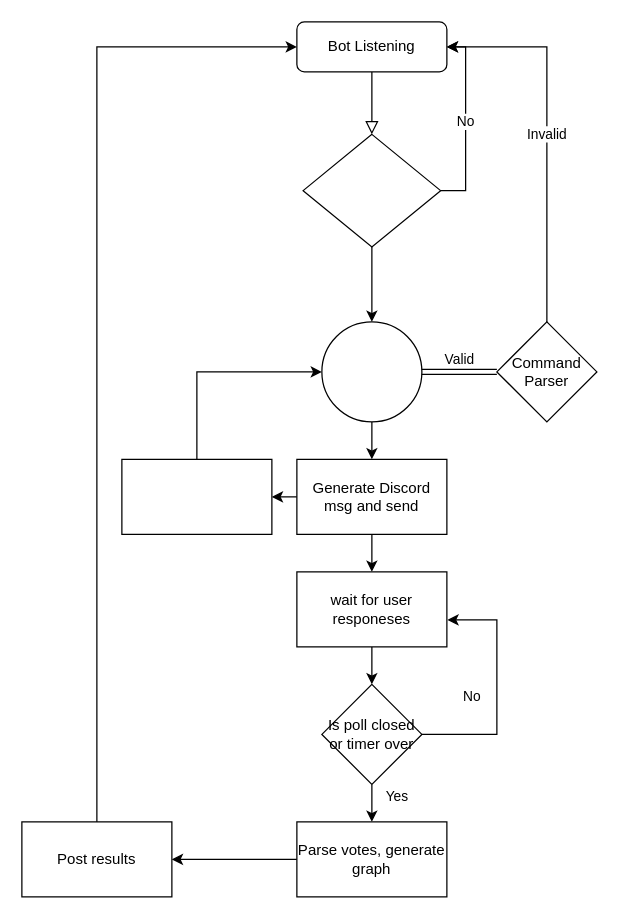
This 619x919 diagram has some shape labels left out. Here are the shapes that lost their labels. From the top down, the centre of each, then its label:
pixel 371 190: !!gvote command found
pixel 371 371: Poll Manager
pixel 196 496: start 30 sec timer for poll to auto close
